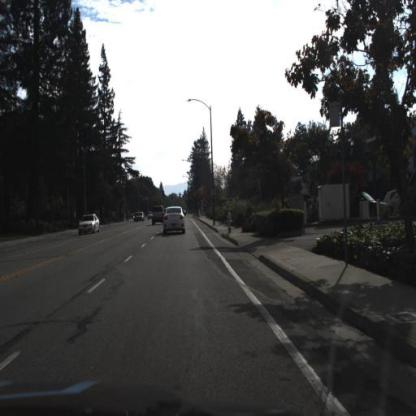car: (165, 208, 187, 236), (78, 213, 103, 234), (152, 206, 166, 228), (134, 212, 146, 225)
